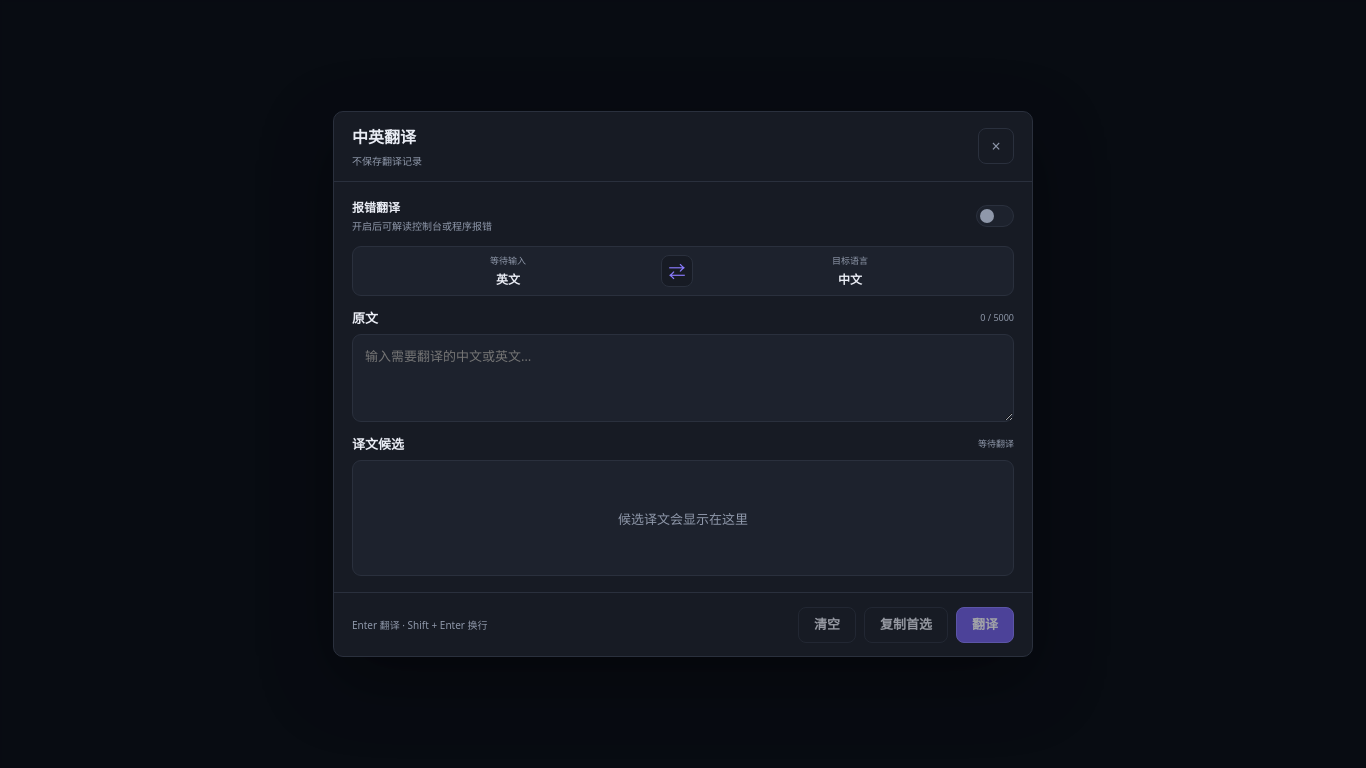
Test: TranslationDialog › 不为中文、长文本或代码生成命名格式：隐患
The width and height of the screenshot is (1366, 768).
Type "隐患" into the text box labelled "原文 0 / 5000". click: (683, 378)
box: top-left (352, 334), bottom-right (1014, 422)
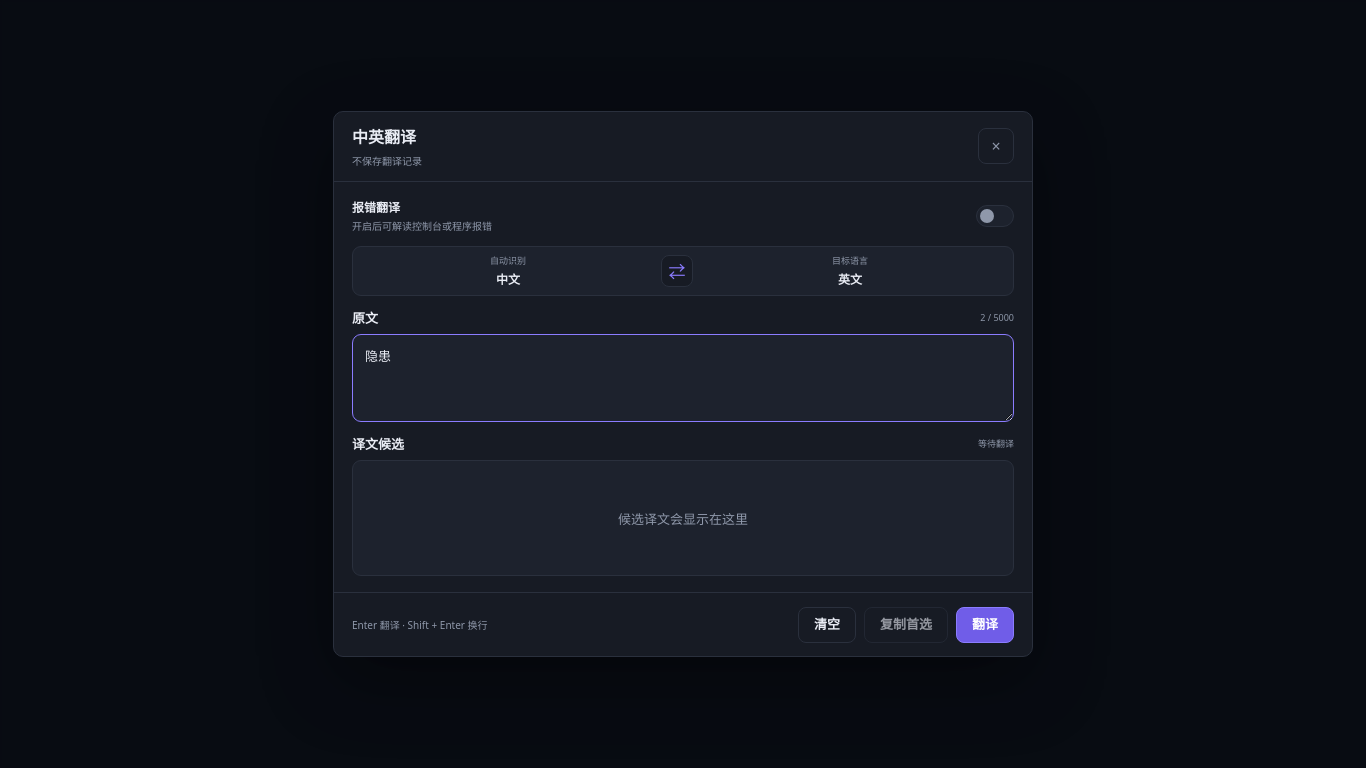
Click the button "翻译". click: (985, 625)
box: top-left (956, 607), bottom-right (1014, 643)
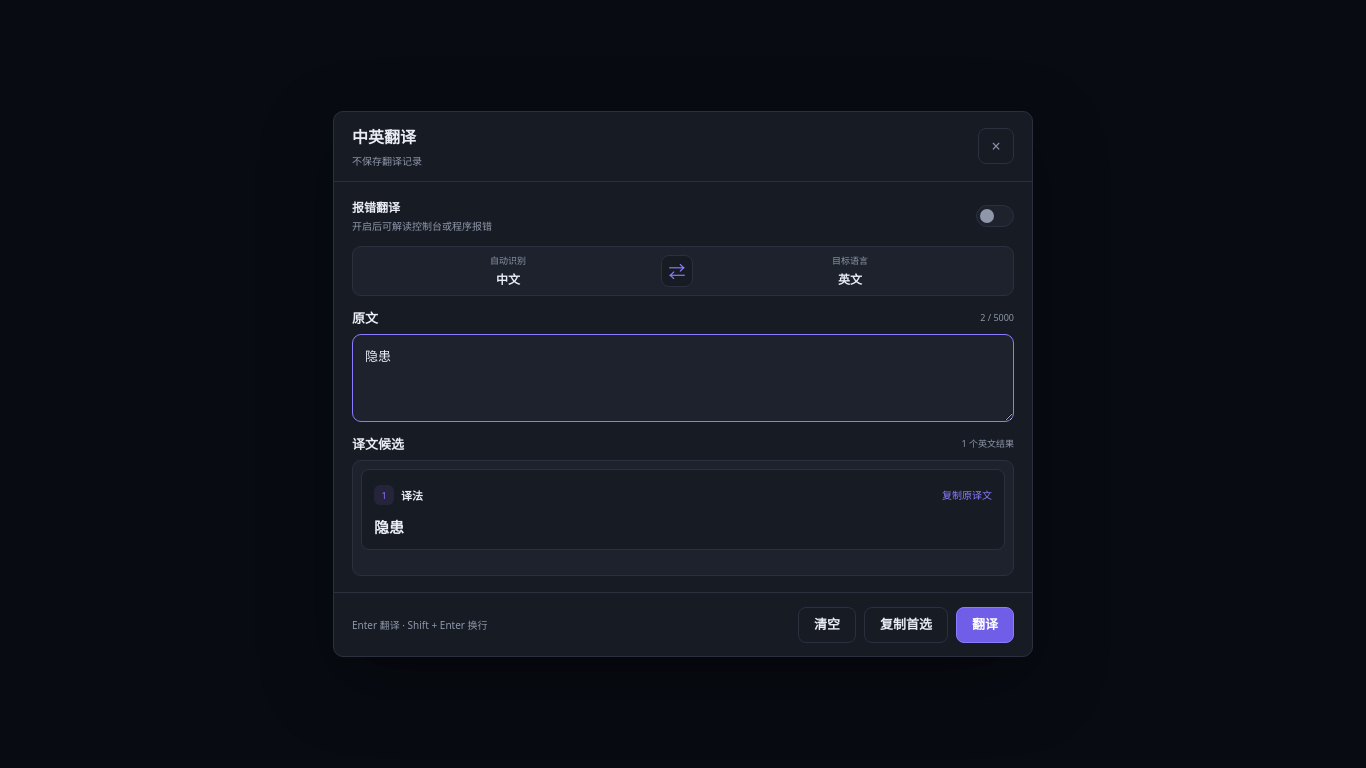
Expected: the text with class "translation-original" reads "隐患", top-left (374, 517), bottom-right (404, 537)
